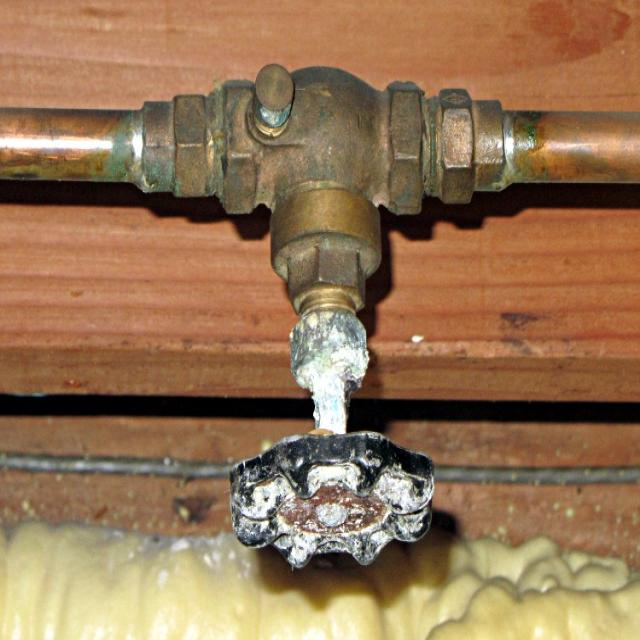Wheel Handle Valve Threaded: (143, 62, 507, 564)
